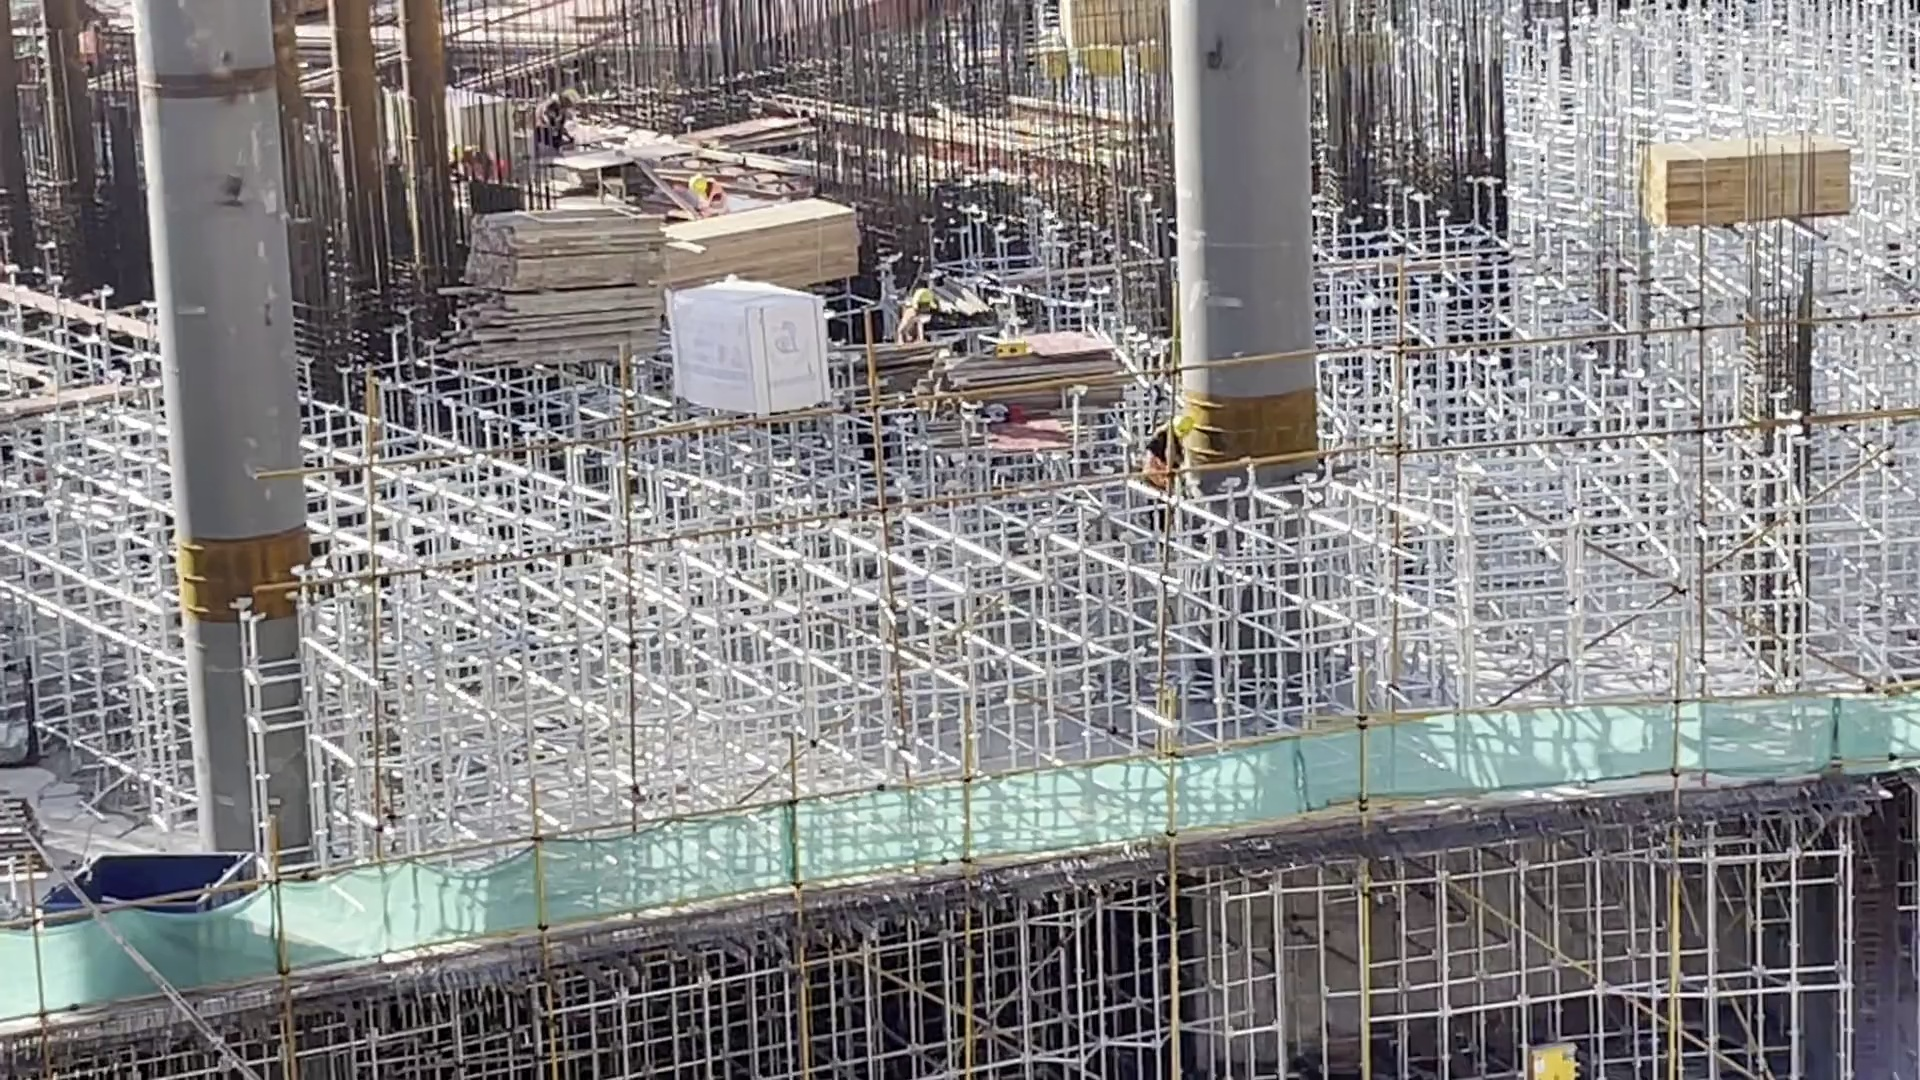board: (932, 326, 1126, 417)
ebox: (1529, 1039, 1584, 1080)
helmet: (684, 174, 709, 198), (1174, 417, 1193, 439), (912, 288, 935, 303), (561, 88, 582, 104)
hopper: (37, 850, 258, 898)
person: (1143, 413, 1194, 488), (534, 87, 585, 156), (896, 286, 941, 341), (681, 171, 732, 220)
vest: (701, 182, 728, 218)
wood: (430, 204, 667, 364), (1636, 134, 1856, 228), (658, 198, 858, 289)
